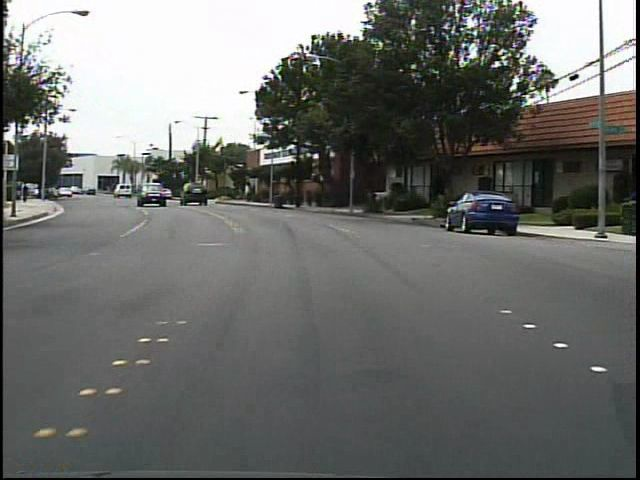person: (20, 180, 33, 207)
